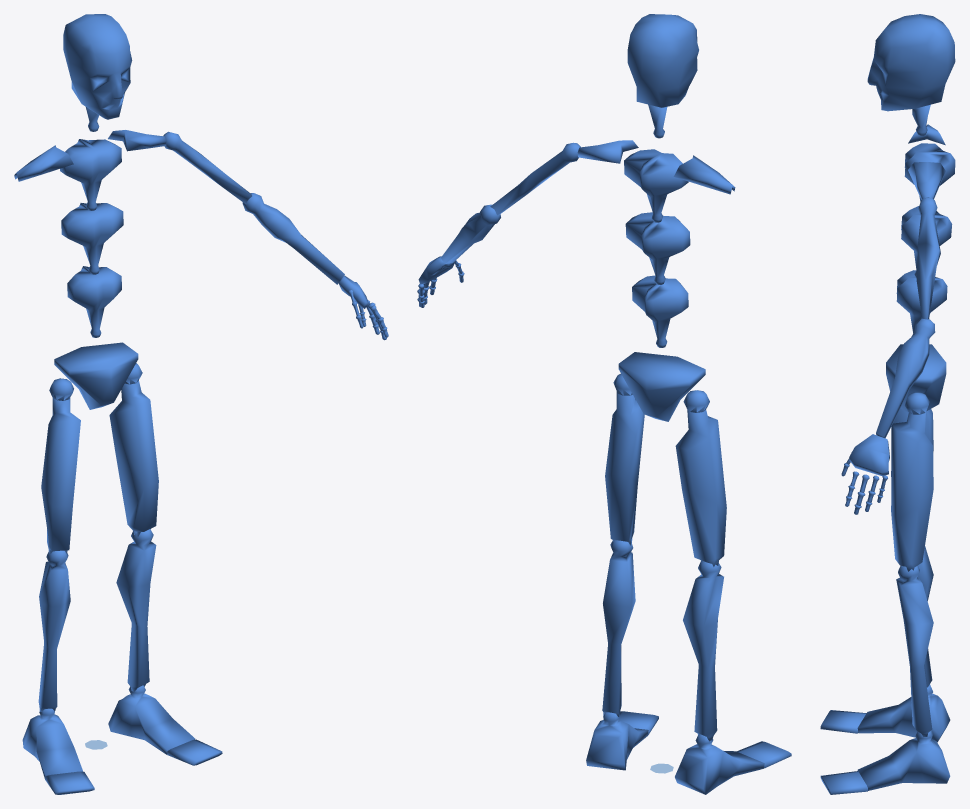
Rendered from body.obj.
3 views of the same model, side by side, from view 1: azimuth 30°, elevation 25°; view 2: azimuth 150°, elevation 25°; view 3: azimuth 270°, elevation 25° (orthographic). The views are drawn at different scales.
Visible parts, largest first — view 1: Head, L_Thigh, R_Thigh, L_Calf, Pelvis, R_Calf, L_Foot, R_Foot, Spine1, Spine2, L_Forearm, Spine (+5 smaller); view 2: R_Thigh, Head, L_Thigh, R_Calf, L_Calf, Pelvis, R_Foot, Spine1, Spine2, Spine, L_Foot, L_UpperArm (+4 smaller); view 3: Head, L_Thigh, L_Calf, L_Foot, L_Forearm, R_Foot, L_UpperArm, Pelvis, Spine, L_Hand, Spine1, Spine2 (+7 smaller).
Part boxes in pixels (x1,y1,x2,y2): Head: [63, 14, 132, 119]; L_Thigh: [109, 363, 158, 536]; R_Thigh: [41, 378, 80, 554]; L_Calf: [116, 529, 156, 691]; Pelvis: [54, 342, 138, 409]; R_Calf: [38, 550, 70, 711]; L_Foot: [108, 685, 195, 754]; R_Foot: [22, 708, 82, 779]; Spine1: [61, 203, 123, 274]; Spine2: [60, 139, 121, 210]; L_Forearm: [242, 193, 344, 284]; Spine: [67, 266, 121, 337]; R_Thigh: [675, 390, 726, 566]; Head: [627, 14, 698, 107]; L_Thigh: [605, 373, 644, 545]; R_Calf: [683, 560, 723, 741]; L_Calf: [602, 540, 635, 716]; Pelvis: [618, 352, 705, 421]; R_Foot: [675, 734, 764, 794]; Spine1: [625, 212, 690, 284]; Spine2: [624, 149, 688, 222]; Spine: [632, 275, 688, 347]; L_Foot: [586, 712, 648, 770]; L_UpperArm: [490, 142, 580, 215]; Head: [867, 14, 955, 111]; L_Thigh: [891, 392, 933, 571]; L_Calf: [896, 565, 933, 736]; L_Foot: [857, 730, 950, 790]; L_Forearm: [876, 318, 935, 438]; R_Foot: [857, 684, 950, 742]; L_UpperArm: [916, 197, 940, 319]; Pelvis: [886, 344, 946, 412]; Spine: [896, 270, 947, 336]; L_Hand: [849, 434, 889, 476]; Spine1: [901, 206, 952, 278]; Spine2: [904, 143, 955, 202].
Bounding box in the file's own units: 22.23 × 44.75 × 7.44.
